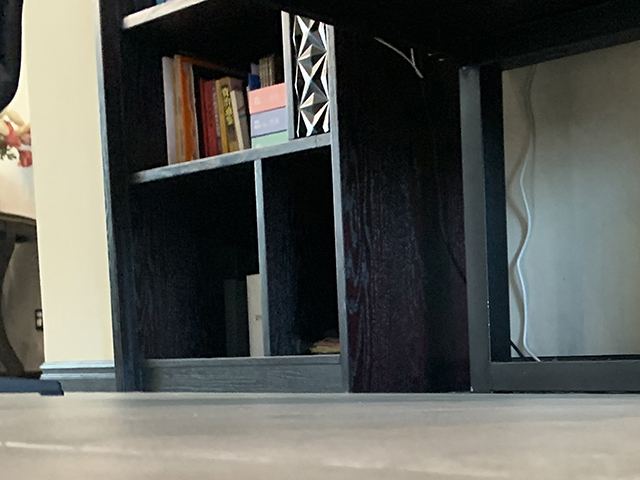cabinet: (93, 1, 362, 395)
wire: (508, 70, 549, 360)
